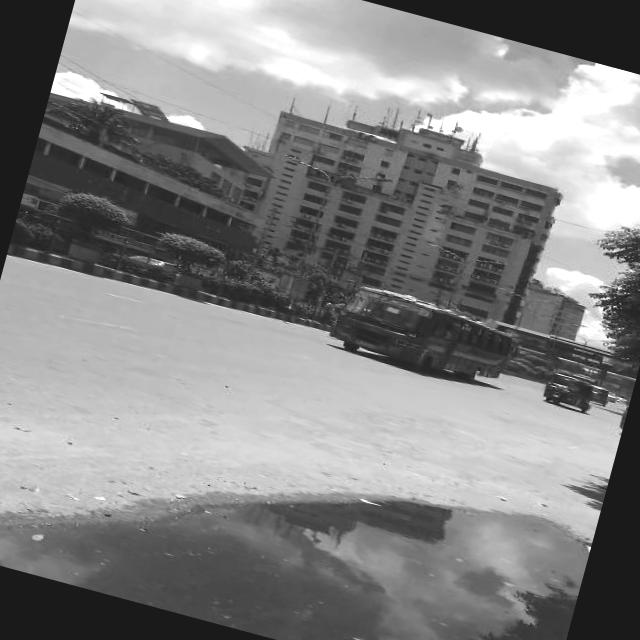bus: (321, 274, 518, 390)
motorcycle: (540, 368, 596, 414), (585, 383, 609, 406)
